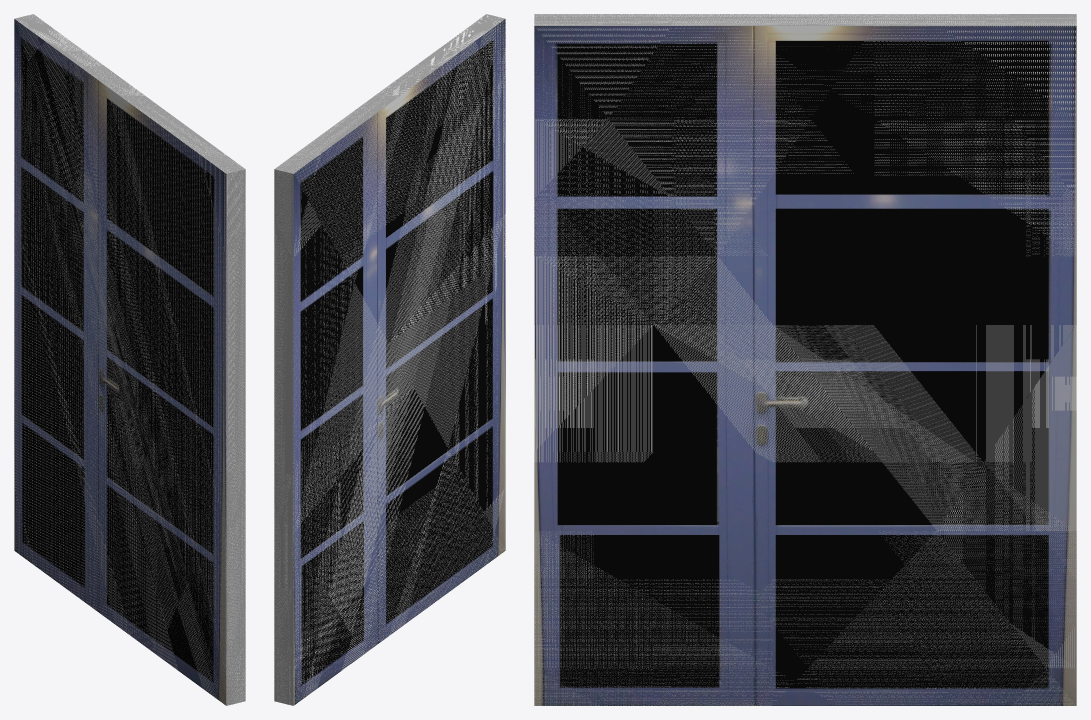
The model's file is blaueTuere01.dae.
The picture shows the model from 3 angles, left to right: view 1: azimuth 30°, elevation 25°; view 2: azimuth 150°, elevation 25°; view 3: azimuth 270°, elevation 25°; orthographic projection. The views are drawn at different scales.
Visible parts, largest first — view 1: SketchUp (×2); view 2: SketchUp (×2); view 3: SketchUp (×2).
Boxes of the visible parts, left/top/right/bottom form: SketchUp (×2): left=14, top=14, right=245, bottom=705; SketchUp (×2): left=274, top=14, right=505, bottom=705; SketchUp (×2): left=534, top=14, right=1076, bottom=705.
Bounding box in the file's own units: 0.1003 × 1.91 × 2.64.
3 materials, 1 textured.
